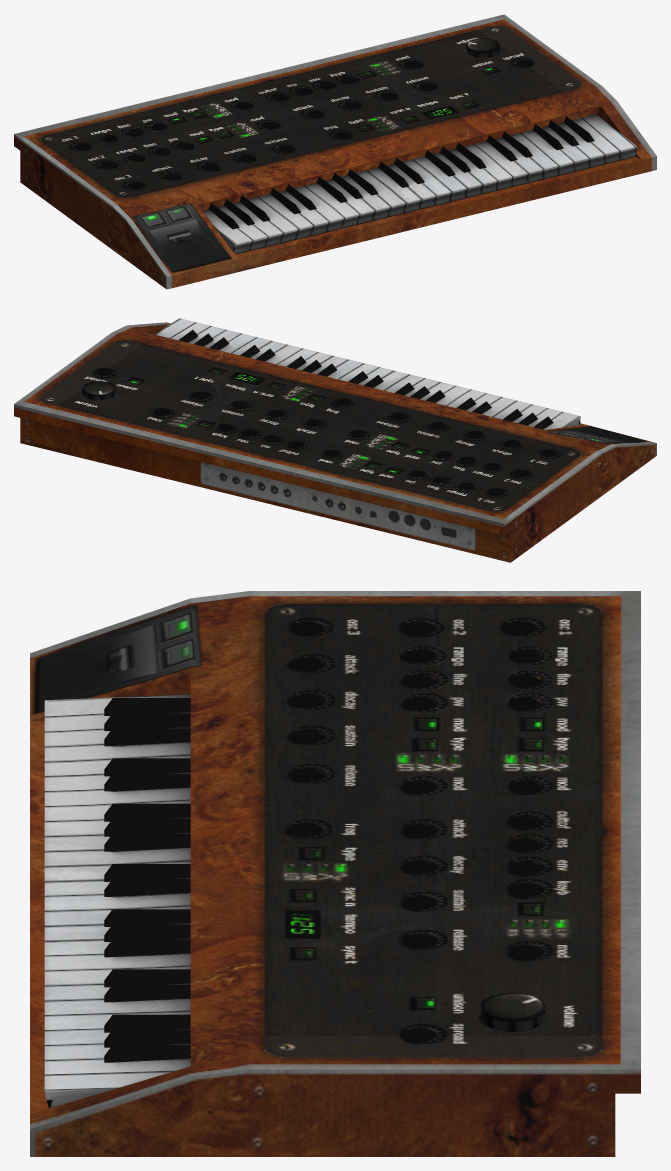
The model's file is M_Home_Garden_Retrokeyboard.fbx.
3 views of the same model, one above another, from view 1: azimuth 30°, elevation 25°; view 2: azimuth 150°, elevation 25°; view 3: azimuth 270°, elevation 25° (orthographic). The views are drawn at different scales.
Parts seen in each view (by area): view 1: M_Home_Garden_Retrokeyboard; view 2: M_Home_Garden_Retrokeyboard; view 3: M_Home_Garden_Retrokeyboard.
Part boxes in pixels (box(x1,y1,x2,y2)): M_Home_Garden_Retrokeyboard: box(14, 14, 656, 289); M_Home_Garden_Retrokeyboard: box(14, 318, 656, 562); M_Home_Garden_Retrokeyboard: box(30, 591, 640, 1156).
Size of the model in its own units: 101 by 9.69 by 54.33.
